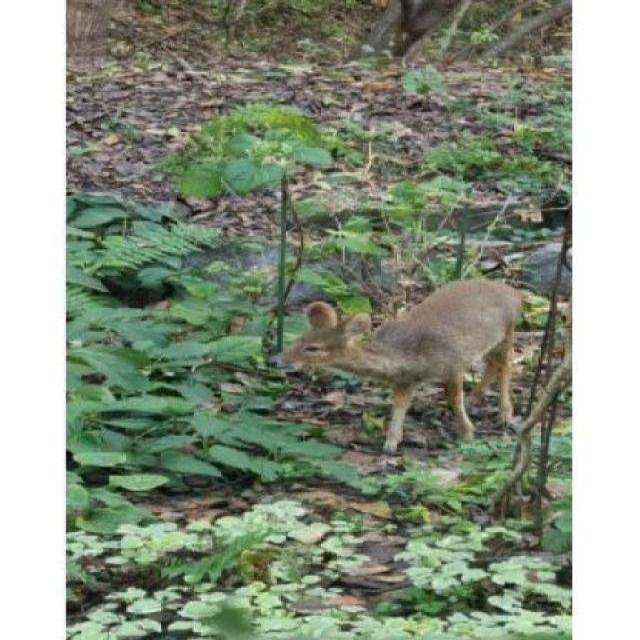deer: (264, 271, 530, 454)
